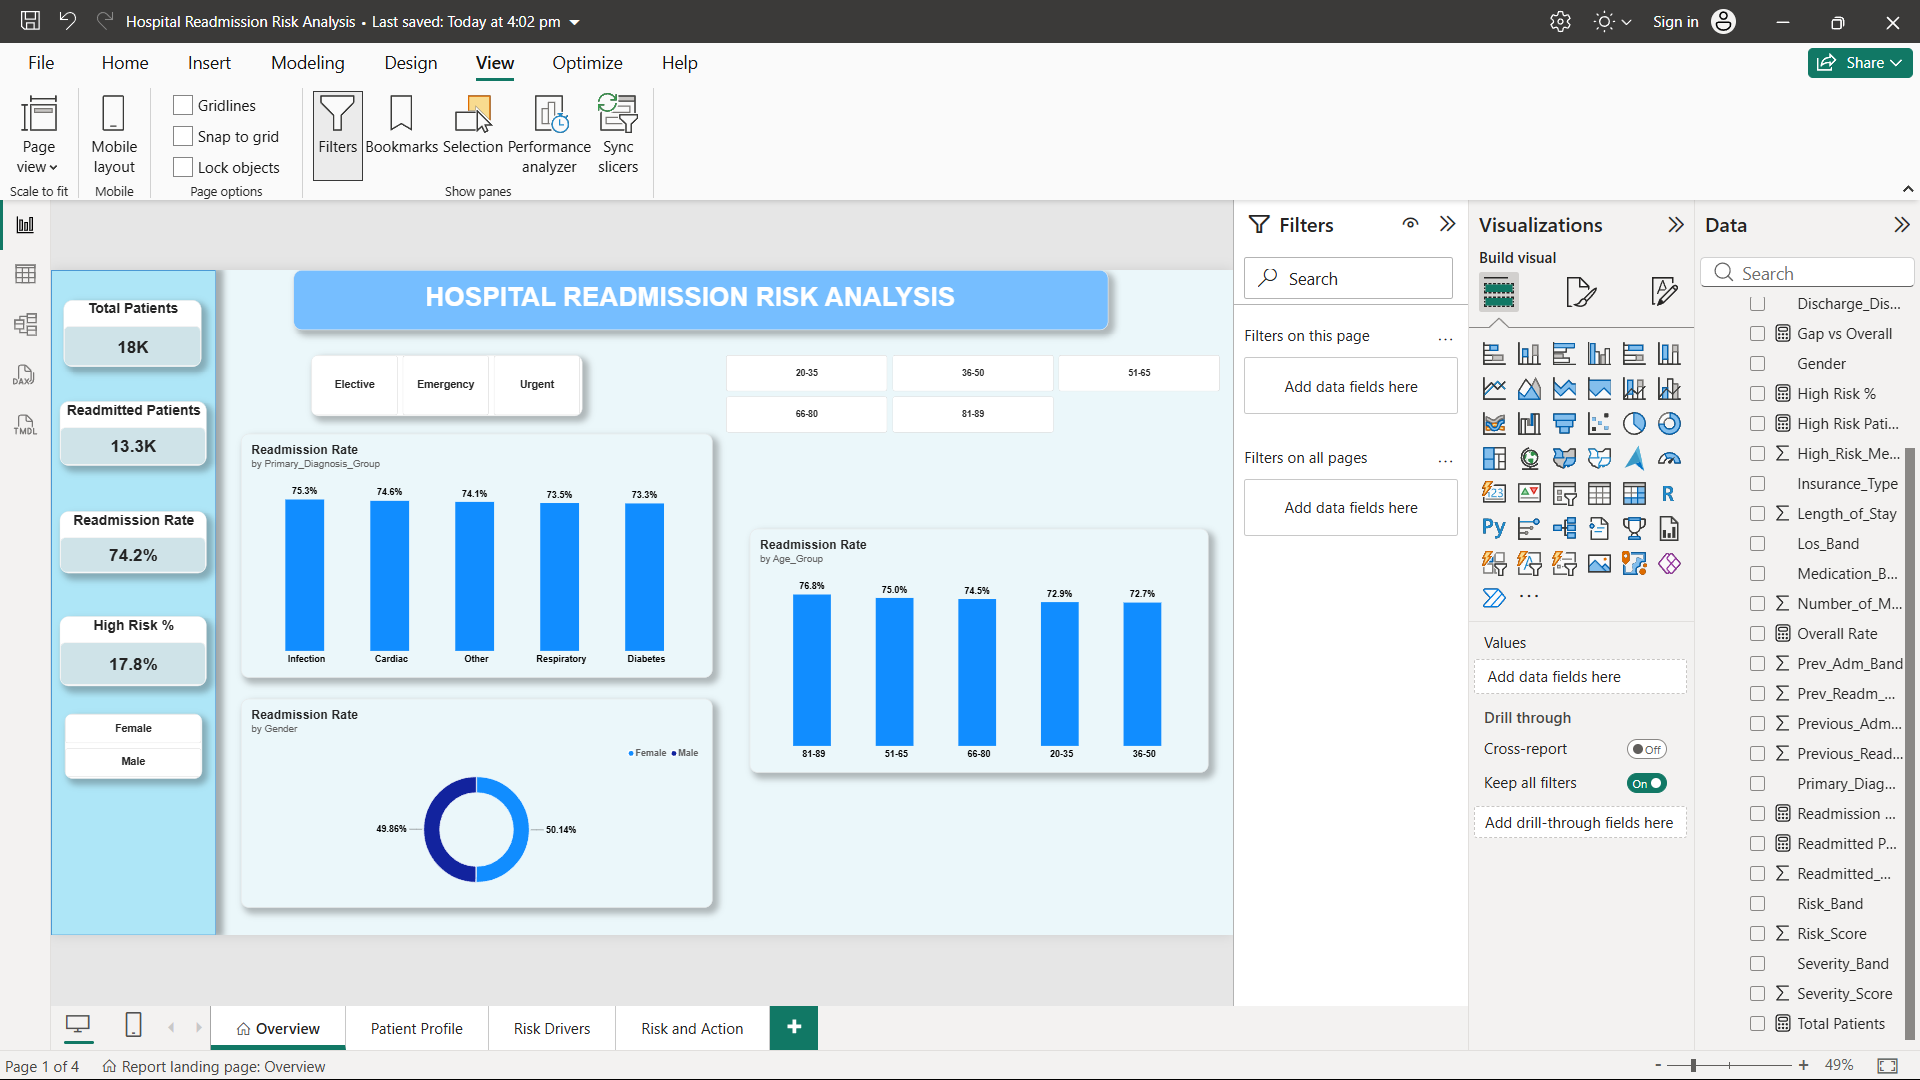

What the dashboard file says about the page in this screenshot:
{"tool":"powerbi","page":{"name":"Overview","canvas":[1920,1080],"ordinal":0},"visuals":[{"type":"shape","box":[0,0,267.6,1080.6],"z":0},{"type":"cardVisual","title":"Total Patients","fields":{"Data":["Patients.Total Patients"]},"box":[20.6,49.4,224.4,109.1],"z":1000},{"type":"cardVisual","title":"Readmitted Patients","fields":{"Data":["Patients.Readmitted Patients"]},"box":[14.4,214.1,238.8,105],"z":2000},{"type":"cardVisual","title":"High Risk %","fields":{"Data":["Patients.High Risk %"]},"box":[14.4,561.9,238.8,113.2],"z":3000},{"type":"cardVisual","title":"Readmission Rate","fields":{"Data":["Patients.Readmission Rate"]},"box":[14.4,391.1,238.8,100.9],"z":4000},{"type":"textbox","box":[393.8,0,1323.6,97.4],"z":5000},{"type":"advancedSlicerVisual","fields":{"Values":["Patients.Age_Group"]},"box":[1096.2,138,803.9,127.9],"z":6000},{"type":"advancedSlicerVisual","fields":{"Values":["Patients.Gender"]},"box":[22.3,720.7,223.3,105.6],"z":7000},{"type":"advancedSlicerVisual","fields":{"Values":["Patients.Admission_Type"]},"box":[422.2,138,440.5,99.1],"z":8000},{"type":"clusteredColumnChart","fields":{"Category":["Patients.Primary_Diagnosis_Group"],"Y":["Patients.Readmission Rate"]},"box":[308.6,265.9,765.3,395.9],"z":9000},{"type":"clusteredColumnChart","fields":{"Y":["Patients.Readmission Rate"],"Category":["Patients.Age_Group"]},"box":[1134.8,420.2,745,395.9],"z":10000},{"type":"donutChart","fields":{"Category":["Patients.Gender"],"Y":["Patients.Readmission Rate"]},"box":[308.6,696.3,765.3,339],"z":11000}]}

Visuals, with their boxes on the page's 1920x1080 design canvas (x1, y1, x2, y2). These are canvas units, not pixel positions in the 1920x1080 screenshot, which may show the page scaled, cropped or inside an application window:
shape: 0, 0, 268, 1081
"Total Patients" cardVisual: 21, 49, 245, 158
"Readmitted Patients" cardVisual: 14, 214, 253, 319
"High Risk %" cardVisual: 14, 562, 253, 675
"Readmission Rate" cardVisual: 14, 391, 253, 492
textbox: 394, 0, 1717, 97
advancedSlicerVisual - Patients.Age_Group: 1096, 138, 1900, 266
advancedSlicerVisual - Patients.Gender: 22, 721, 246, 826
advancedSlicerVisual - Patients.Admission_Type: 422, 138, 863, 237
clusteredColumnChart - Patients.Primary_Diagnosis_Group x Patients.Readmission Rate: 309, 266, 1074, 662
clusteredColumnChart - Patients.Readmission Rate x Patients.Age_Group: 1135, 420, 1880, 816
donutChart - Patients.Gender x Patients.Readmission Rate: 309, 696, 1074, 1035
